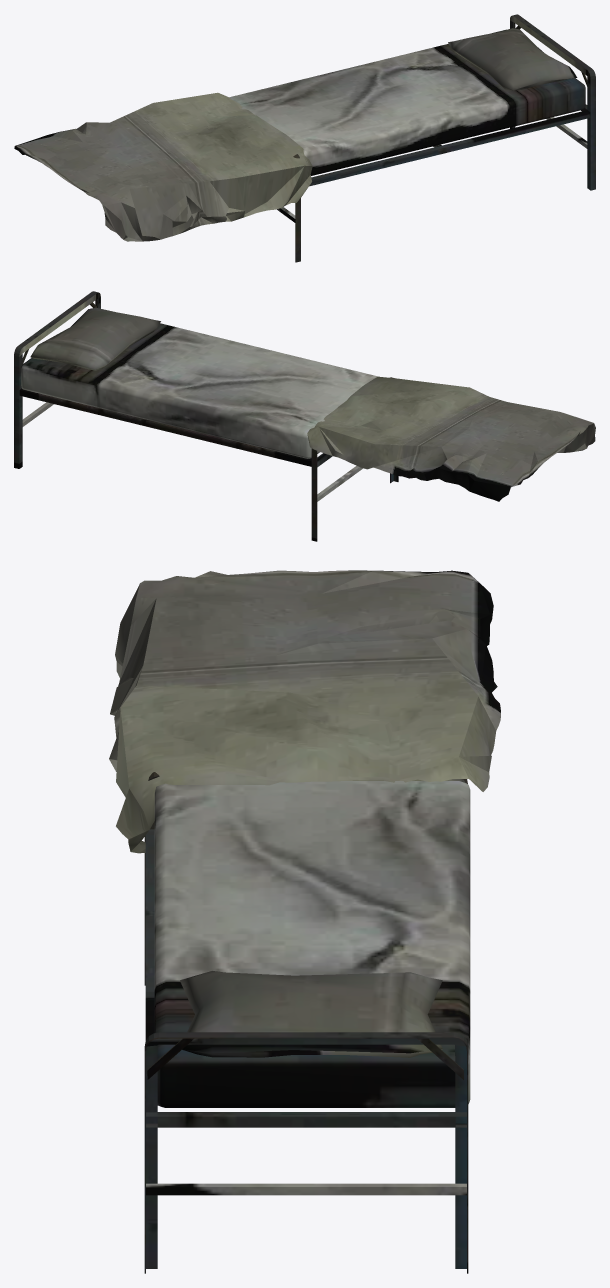
The model's file is Bed.glb.
3 renders of one model, top to bottom at view 1: azimuth 30°, elevation 25°; view 2: azimuth 150°, elevation 25°; view 3: azimuth 270°, elevation 25°, orthographic. The views are drawn at different scales.
Visible parts, largest first — view 1: Bed; view 2: Bed; view 3: Bed.
Boxes of the visible parts, box(x1,y1,x2,y2) form: Bed: box(14, 14, 595, 262); Bed: box(14, 291, 595, 541); Bed: box(109, 570, 500, 1273).
Size of the model in its own units: 31.36 by 7.36 by 10.61.
1 material, 1 textured.
